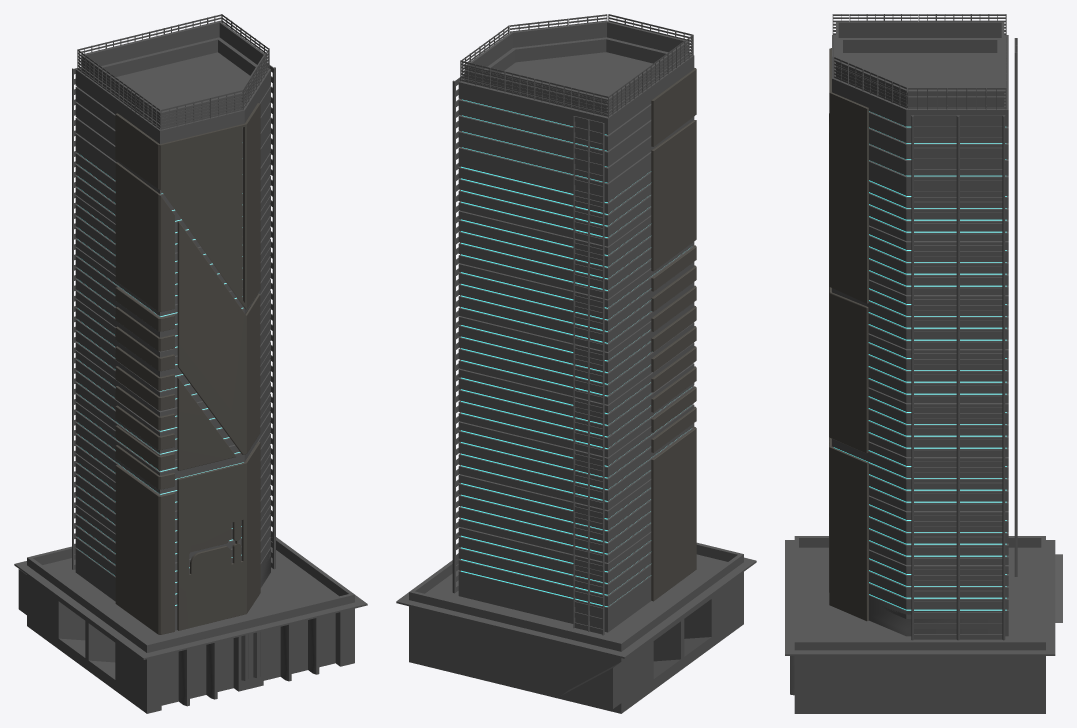
File: com.demensdeum.hitech.building.model.glb
The picture shows the model from 3 angles, left to right: view 1: azimuth 30°, elevation 25°; view 2: azimuth 150°, elevation 25°; view 3: azimuth 270°, elevation 25°; orthographic projection. The views are drawn at different scales.
Visible parts, largest first — view 1: polySurface19, polySurface4, polySurface20, polySurface46, polySurface24, polySurface47, polySurface22, polySurface52, polySurface51, polySurface49, polySurface50, polySurface53 (+17 smaller); view 2: polySurface19, polySurface4, polySurface51, polySurface49, polySurface52, polySurface50, polySurface48, polySurface53, polySurface6, polySurface54, polySurface47, polySurface22 (+23 smaller); view 3: polySurface19, polySurface4, polySurface20, polySurface46, polySurface24, polySurface52, polySurface49, polySurface51, polySurface50, polySurface48, polySurface53, polySurface6 (+12 smaller).
Part boxes in pixels (x1,y1,x2,y2): polySurface19: (14, 536, 367, 713); polySurface4: (75, 21, 270, 203); polySurface20: (115, 103, 260, 309); polySurface46: (177, 442, 260, 630); polySurface24: (177, 221, 260, 454); polySurface47: (115, 465, 174, 634); polySurface22: (115, 162, 174, 311); polySurface52: (75, 402, 270, 510); polySurface51: (75, 350, 270, 459); polySurface49: (75, 247, 270, 357); polySurface50: (75, 298, 270, 411); polySurface53: (75, 453, 270, 562); polySurface19: (396, 542, 756, 713); polySurface4: (458, 21, 694, 194); polySurface51: (458, 343, 694, 457); polySurface49: (458, 242, 694, 351); polySurface52: (458, 403, 694, 509); polySurface50: (458, 302, 694, 404); polySurface48: (458, 210, 651, 299); polySurface53: (458, 474, 651, 562); polySurface6: (458, 159, 651, 246); polySurface54: (458, 527, 651, 611); polySurface47: (651, 426, 696, 601); polySurface22: (651, 120, 696, 271); polySurface19: (785, 536, 1062, 713); polySurface4: (832, 21, 1008, 188); polySurface20: (829, 48, 868, 303); polySurface46: (829, 436, 868, 621); polySurface24: (829, 144, 868, 453); polySurface52: (832, 439, 1008, 510); polySurface49: (832, 279, 1008, 348); polySurface51: (868, 387, 1008, 456); polySurface50: (868, 333, 1008, 402); polySurface48: (869, 225, 1008, 294); polySurface53: (869, 495, 1008, 564); polySurface6: (869, 172, 1008, 240).
Size of the model in its own units: 10.45 by 26.16 by 10.74.
